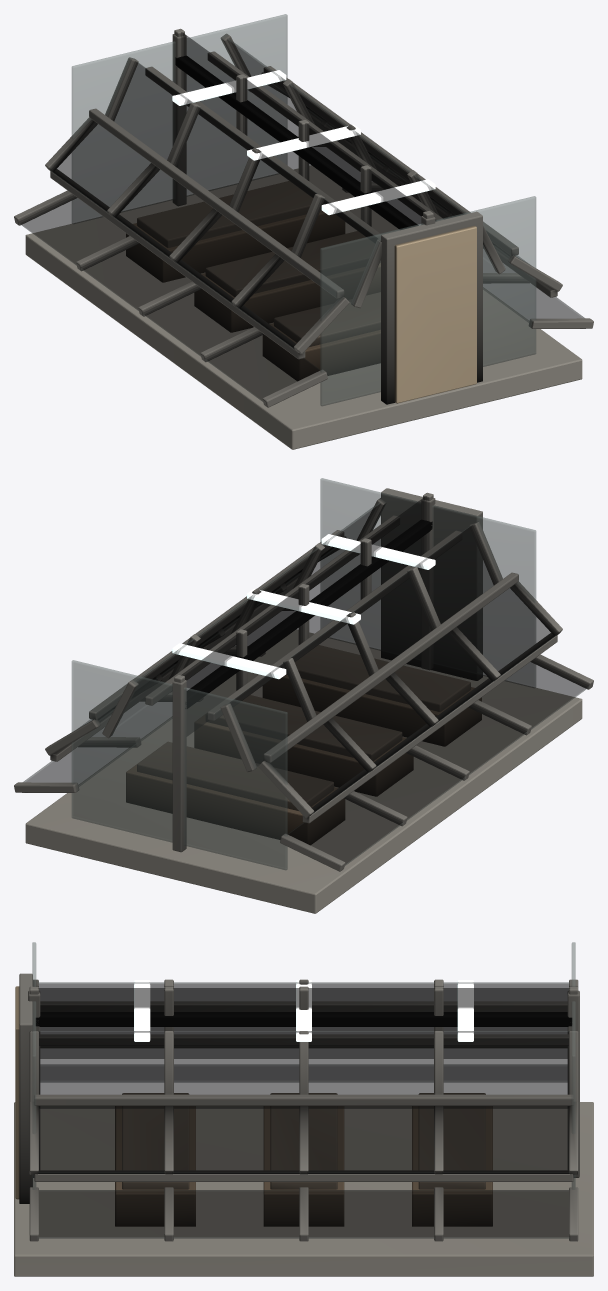
Rendered from greenhouse.glb.
The picture shows the model from 3 angles, top to bottom: view 1: azimuth 30°, elevation 25°; view 2: azimuth 150°, elevation 25°; view 3: azimuth 270°, elevation 25°; orthographic projection. The views are drawn at different scales.
Visible parts, largest first — view 1: base; view 2: base; view 3: base.
Boxes of the visible parts, box(x1,y1,x2,y2) form: base: box(14, 14, 593, 449); base: box(14, 478, 593, 913); base: box(14, 942, 593, 1276).
Size of the model in its own units: 3.05 by 1.74 by 4.3.
